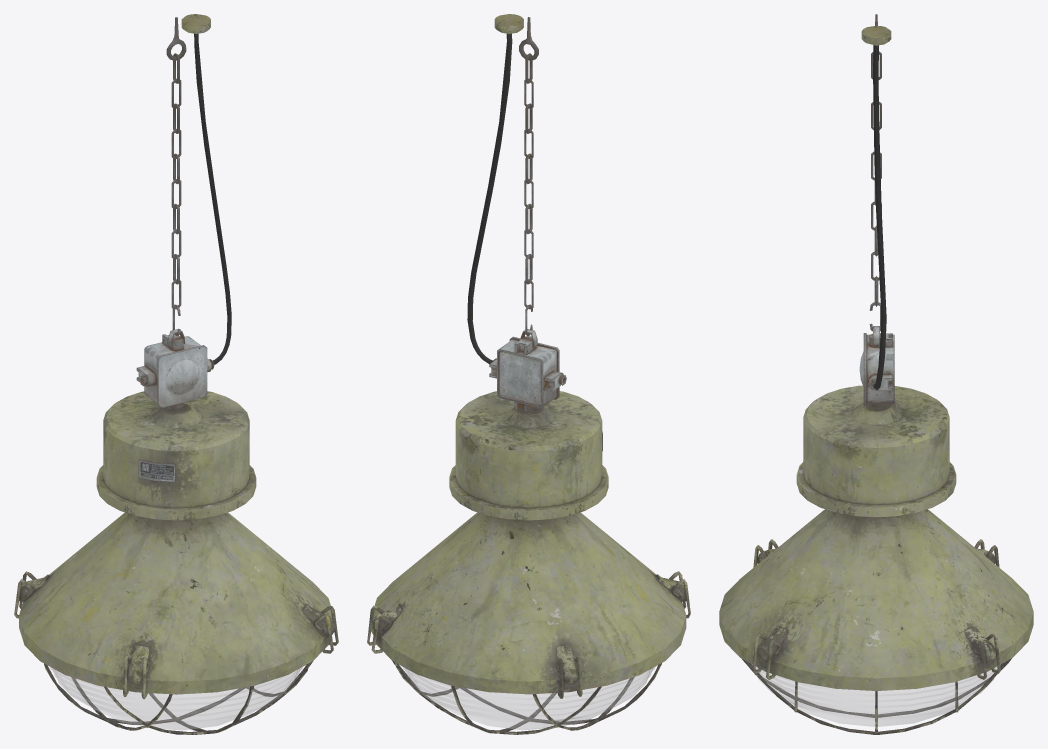
File: hanging_industrial_lamp.glb
3 views of the same model, side by side, from view 1: azimuth 30°, elevation 25°; view 2: azimuth 150°, elevation 25°; view 3: azimuth 270°, elevation 25° (orthographic).
Parts seen in each view (by area): view 1: hanging_industrial_lamp; view 2: hanging_industrial_lamp; view 3: hanging_industrial_lamp.
Part boxes in pixels (x1,y1,x2,y2): hanging_industrial_lamp: (14,14,338,734); hanging_industrial_lamp: (367,14,690,734); hanging_industrial_lamp: (719,14,1033,734).
Bounding box in the file's own units: 0.5497 × 1.36 × 0.5497.
2 materials, 1 textured.
